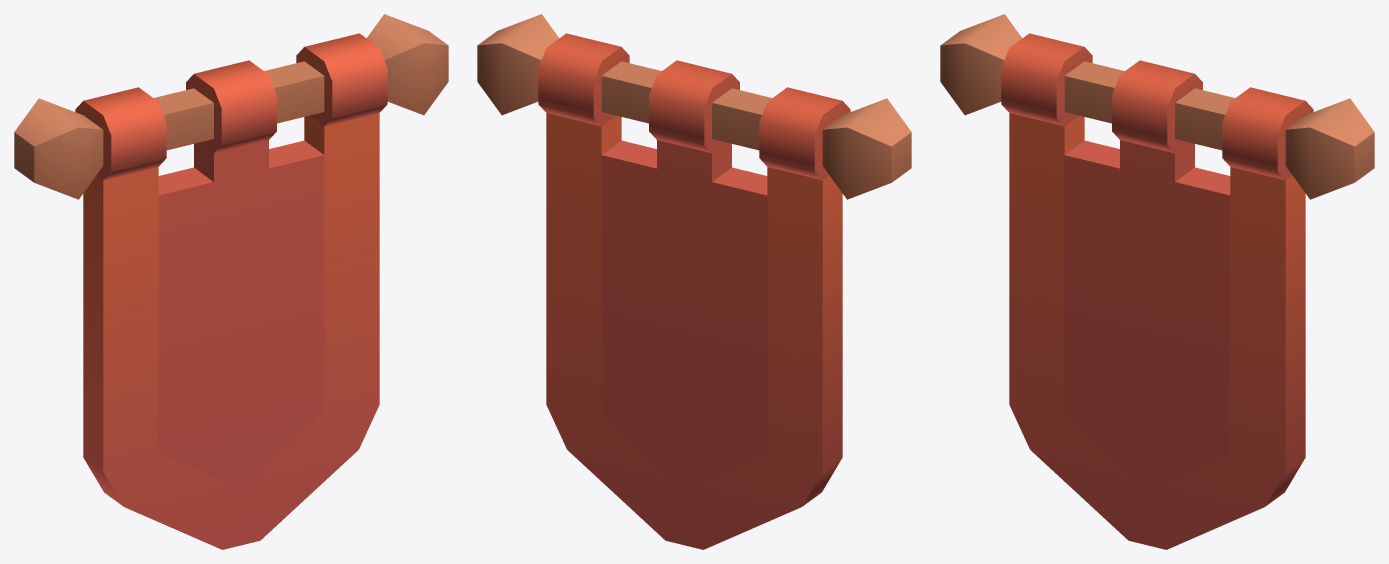
The model's file is banner.obj.
3 views of the same model, side by side, from view 1: azimuth 30°, elevation 25°; view 2: azimuth 150°, elevation 25°; view 3: azimuth 330°, elevation 25° (orthographic).
Visible parts, largest first — view 1: banner; view 2: banner; view 3: banner.
Part boxes in pixels (box(x1,y1,x2,y2)): banner: box(14, 14, 448, 549); banner: box(477, 14, 911, 549); banner: box(940, 14, 1374, 549).
Size of the model in its own units: 0.6 by 0.6465 by 0.1.
Materials: 1 (1 with a texture image).
